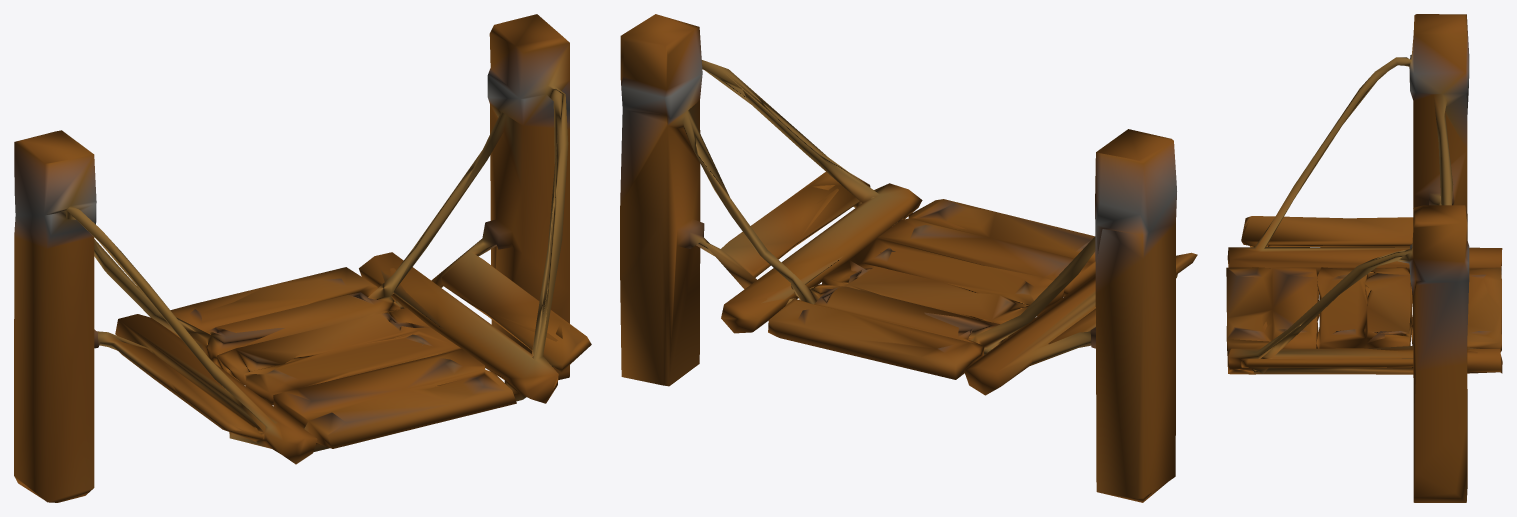
File: gen3d-plank-bridge-lod1.glb
The picture shows the model from 3 angles, left to right: view 1: azimuth 30°, elevation 25°; view 2: azimuth 150°, elevation 25°; view 3: azimuth 270°, elevation 25°; orthographic projection. The views are drawn at different scales.
Visible parts, largest first — view 1: part_0; view 2: part_0; view 3: part_0.
Boxes of the visible parts, x1,y1,x2,y2 form: part_0: (14,14,591,502); part_0: (620,14,1197,502); part_0: (1226,14,1502,502).
Size of the model in its own units: 1.62 by 1 by 0.8919.
